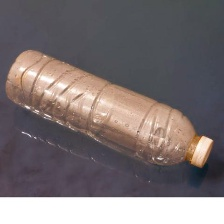bottle: (1, 47, 216, 173)
